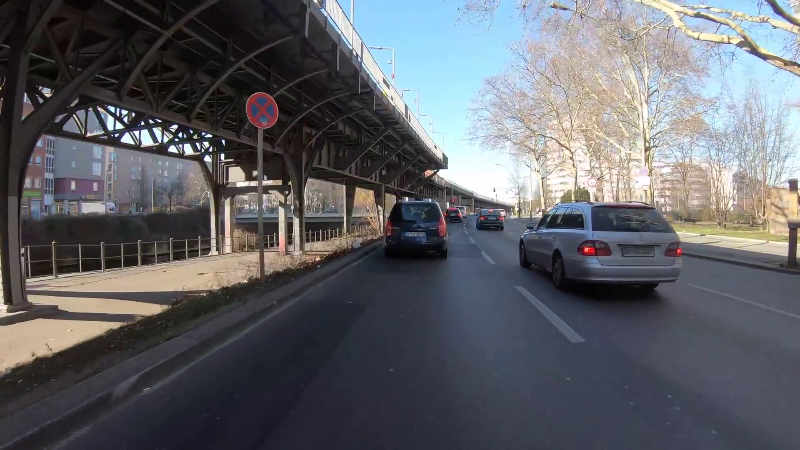Plate: (618, 244, 659, 259), (402, 231, 425, 238)
